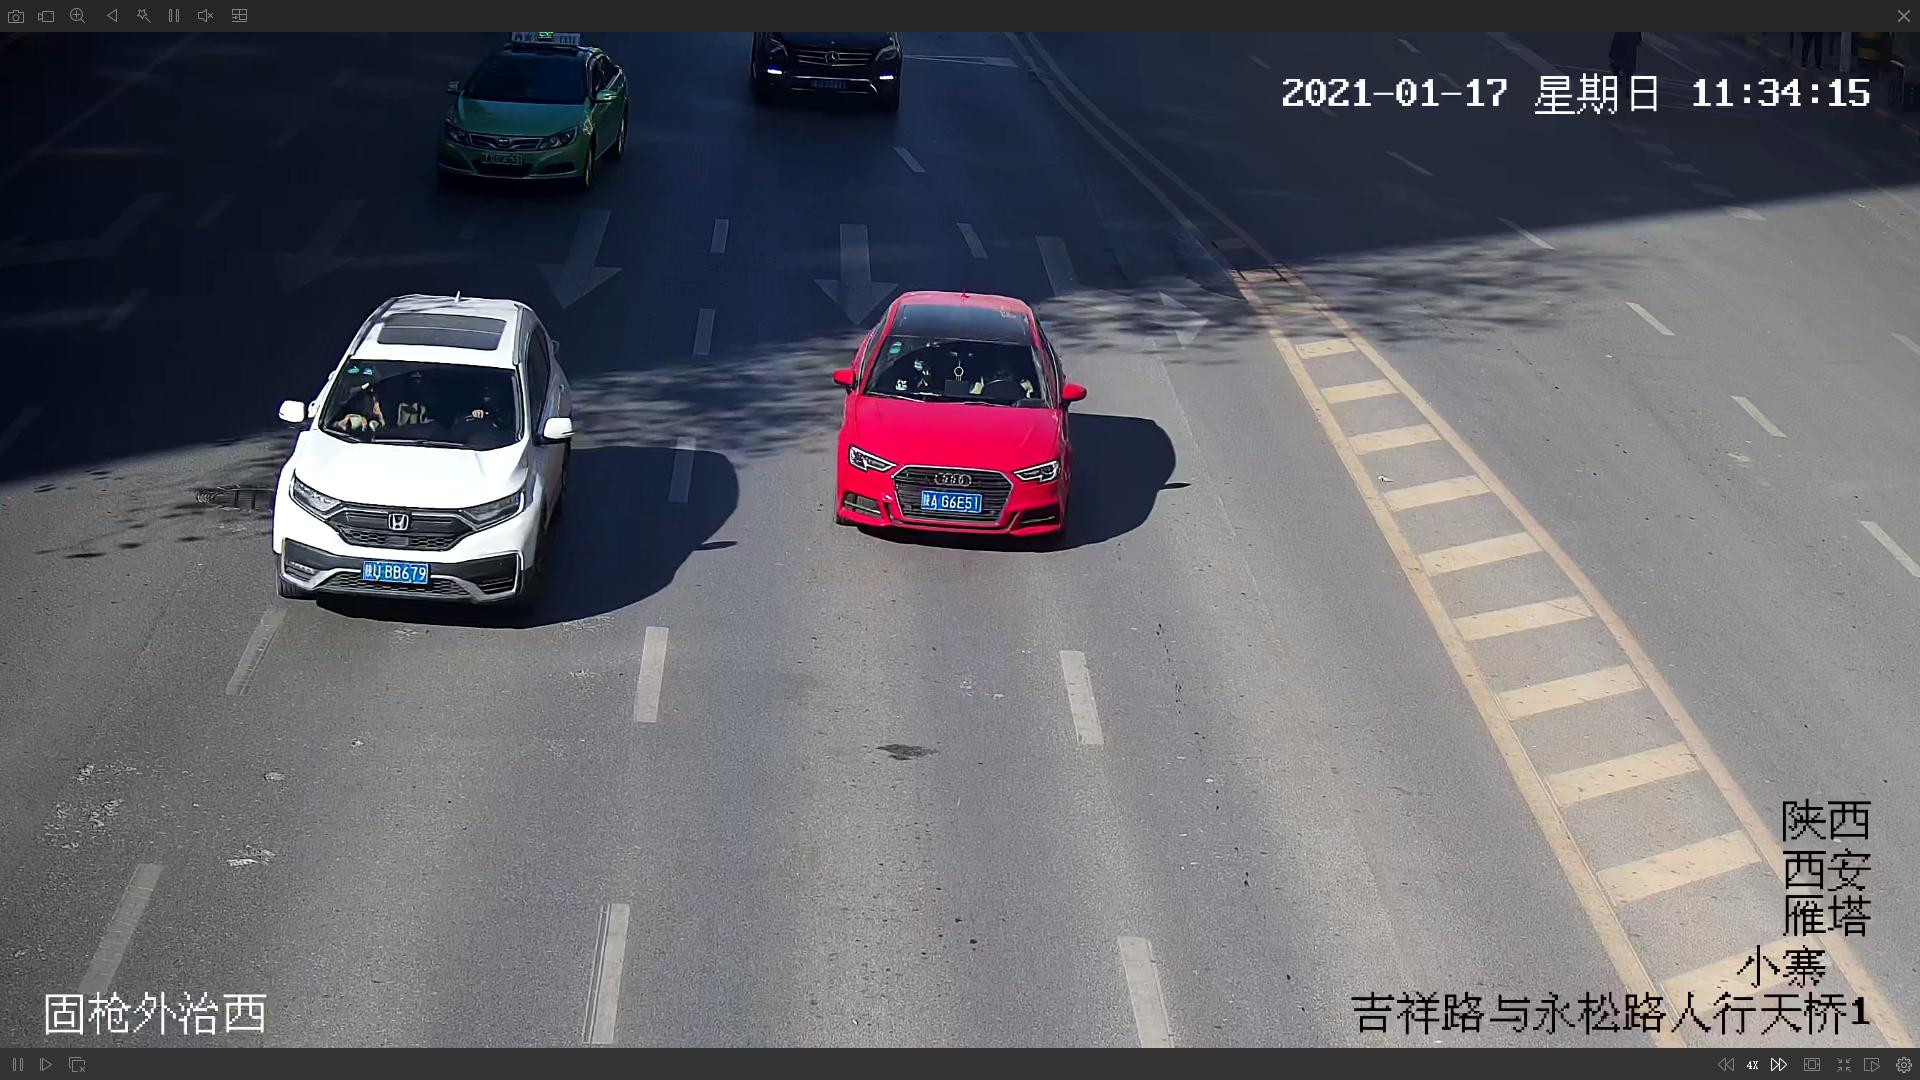grass-green: (436, 36, 630, 193)
red: (833, 291, 1083, 546)
white: (265, 294, 568, 615)
